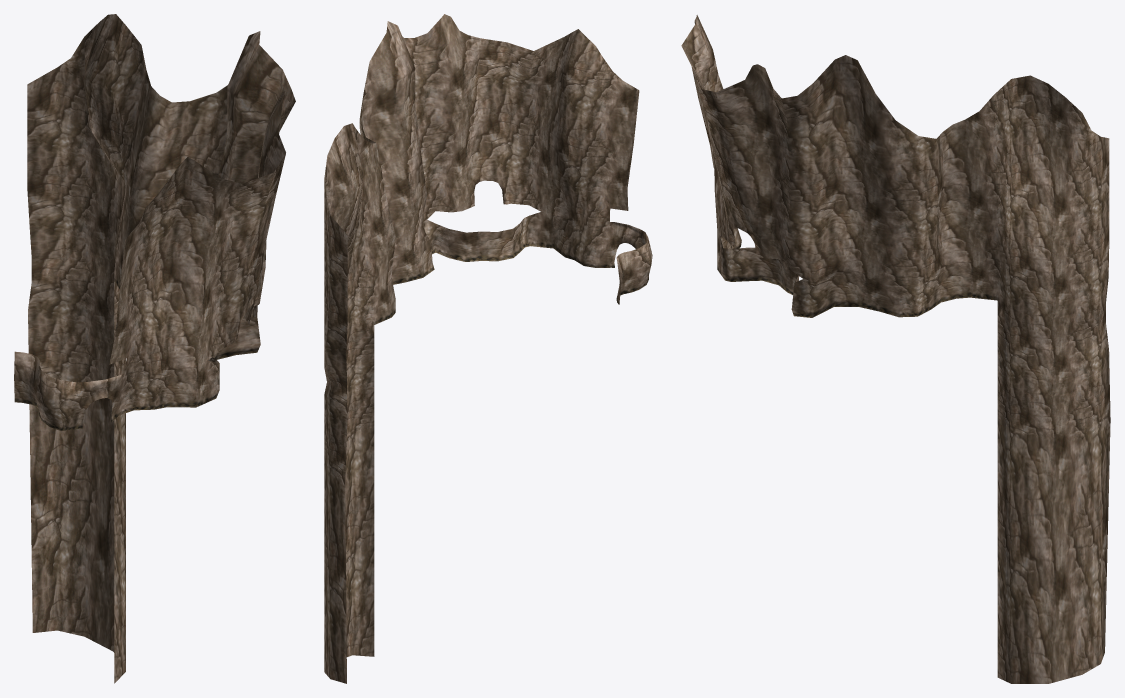
Rendered from OVERHILL_A_01_OBJECT23.fbx.
3 views of the same model, side by side, from view 1: azimuth 30°, elevation 25°; view 2: azimuth 150°, elevation 25°; view 3: azimuth 270°, elevation 25° (orthographic). The views are drawn at different scales.
Visible parts, largest first — view 1: OVERHILL_A_01_OBJECT23; view 2: OVERHILL_A_01_OBJECT23; view 3: OVERHILL_A_01_OBJECT23.
Part boxes in pixels (<box>): OVERHILL_A_01_OBJECT23: <box>14,14,295,683</box>; OVERHILL_A_01_OBJECT23: <box>324,14,652,683</box>; OVERHILL_A_01_OBJECT23: <box>681,15,1110,683</box>.
Bounding box in the file's own units: 203688 × 494839 × 295007.
2 materials, 2 textured.
